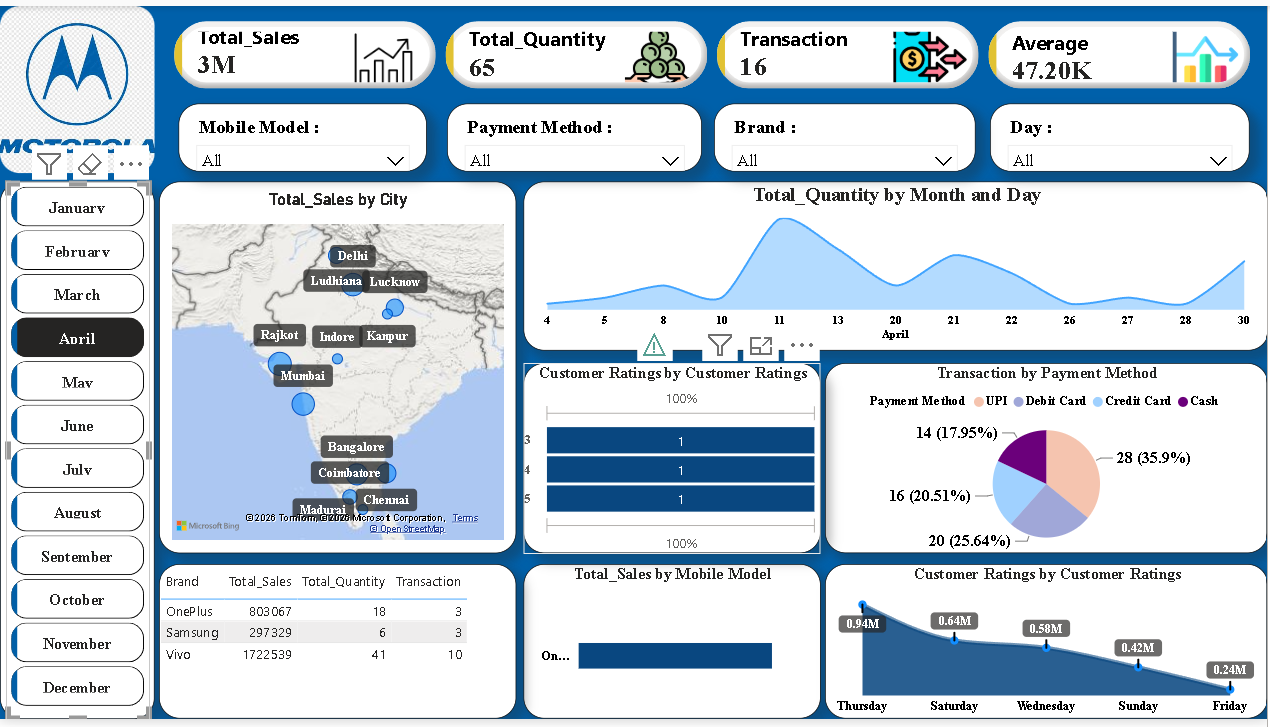

The dashboard page shown, as its layout file describes it:
{"tool":"powerbi","page":{"name":"Page 1","canvas":[1280,720],"ordinal":0},"visuals":[{"type":"shape","box":[0,177,155.7,542.6],"z":0},{"type":"image","box":[0,0,155.7,168.9],"z":1000},{"type":"advancedSlicerVisual","fields":{"Values":["SALES_DATA.Date.Variation.Date Hierarchy.Month"]},"box":[6.6,177,144.3,544.3],"z":2000},{"type":"cardVisual","fields":{"Data":["SALES_DATA.Total_Sales","SALES_DATA.Total_Quantity","SALES_DATA.Transaction","SALES_DATA.Average"]},"box":[160.7,0,1119.7,106.6],"z":3000},{"type":"map","fields":{"Category":["SALES_DATA.City"],"Size":["SALES_DATA.Total_Sales"]},"box":[160.7,177,360.7,375.4],"z":4000},{"type":"lineChart","fields":{"Category":["SALES_DATA.Date.Variation.Date Hierarchy.Month","SALES_DATA.Date.Variation.Date Hierarchy.Day"],"Y":["SALES_DATA.Total_Quantity"]},"box":[527.9,177,752.5,170.5],"z":5000},{"type":"barChart","fields":{"Category":["SALES_DATA.Mobile Model"],"Y":["SALES_DATA.Total_Sales"]},"box":[527.9,563.9,300,155.7],"z":6000},{"type":"pieChart","fields":{"Category":["SALES_DATA.Payment Method"],"Y":["SALES_DATA.Transaction"]},"box":[832.8,360.7,447.5,191.8],"z":7000},{"type":"funnel","title":" Customer Ratings by Customer Ratings","fields":{"Category":["SALES_DATA.Customer Ratings"],"Y":["CountNonNull(SALES_DATA.Customer Ratings)"]},"box":[527.9,360.7,300,191.8],"z":8000},{"type":"areaChart","title":" Customer Ratings by Customer Ratings","fields":{"Category":["SALES_DATA.Day"],"Y":["SALES_DATA.Total_Sales"]},"box":[832.8,563.9,447.5,155.7],"z":9000},{"type":"tableEx","fields":{"Values":["SALES_DATA.Brand","SALES_DATA.Total_Sales","SALES_DATA.Total_Quantity","SALES_DATA.Transaction"]},"box":[160.7,563.9,360.7,155.7],"z":10000},{"type":"slicer","fields":{"Values":["SALES_DATA.Mobile Model"]},"box":[180.3,98.4,250.8,68.9],"z":11000},{"type":"slicer","fields":{"Values":["SALES_DATA.Payment Method"]},"box":[450.8,98.4,257.4,68.9],"z":12000},{"type":"slicer","fields":{"Values":["SALES_DATA.Day"]},"box":[1000,98.4,262.3,68.9],"z":13000},{"type":"slicer","fields":{"Values":["SALES_DATA.Brand"]},"box":[721.3,98.4,263.9,68.9],"z":14000}]}

Visuals, with their boxes in screenshot pixels (x1, y1, x2, y2):
shape: 3:183:156:714
image: 3:10:156:175
advancedSlicerVisual - SALES_DATA.Date.Variation.Date Hierarchy.Month: 10:183:151:716
cardVisual - SALES_DATA.Total_Sales x SALES_DATA.Total_Quantity: 161:10:1256:114
map - SALES_DATA.City x SALES_DATA.Total_Sales: 161:183:513:550
lineChart - SALES_DATA.Date.Variation.Date Hierarchy.Month x SALES_DATA.Date.Variation.Date Hierarchy.Day: 520:183:1256:350
barChart - SALES_DATA.Mobile Model x SALES_DATA.Total_Sales: 520:562:813:714
pieChart - SALES_DATA.Payment Method x SALES_DATA.Transaction: 818:363:1256:551
" Customer Ratings by Customer Ratings" funnel: 520:363:813:551
" Customer Ratings by Customer Ratings" areaChart: 818:562:1256:714
tableEx - SALES_DATA.Brand x SALES_DATA.Total_Sales: 161:562:513:714
slicer - SALES_DATA.Mobile Model: 180:106:425:174
slicer - SALES_DATA.Payment Method: 444:106:696:174
slicer - SALES_DATA.Day: 982:106:1238:174
slicer - SALES_DATA.Brand: 709:106:967:174
